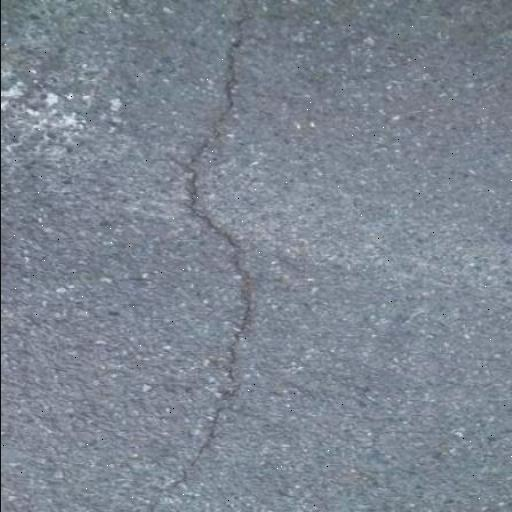spalling: (141, 7, 268, 502)
